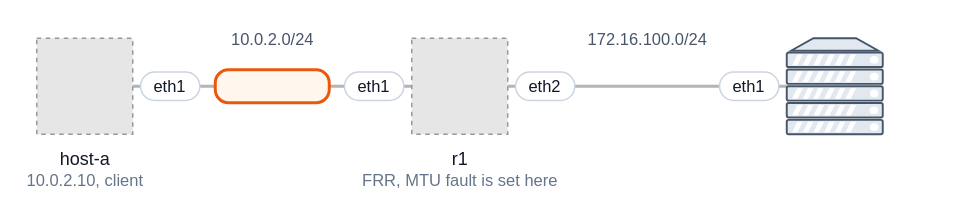
Image size: 956x221. Some labels were removed from this diagram. Grey dashed boxes stand in for pictures. Each missing label, with the centre of its shape:
capture: the point at 271,86
host-b 172.16.100.20, test server: the point at 834,85
